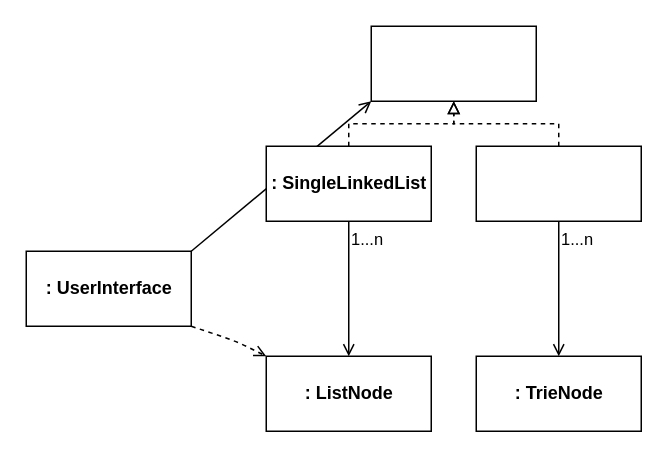
Image size: 668x458. Some labels were removed from this diagram. The centre of each missing label's shape, as x and y in pixels:
": Database" belongs at point 453,63.
": Trie" belongs at point 558,183.
